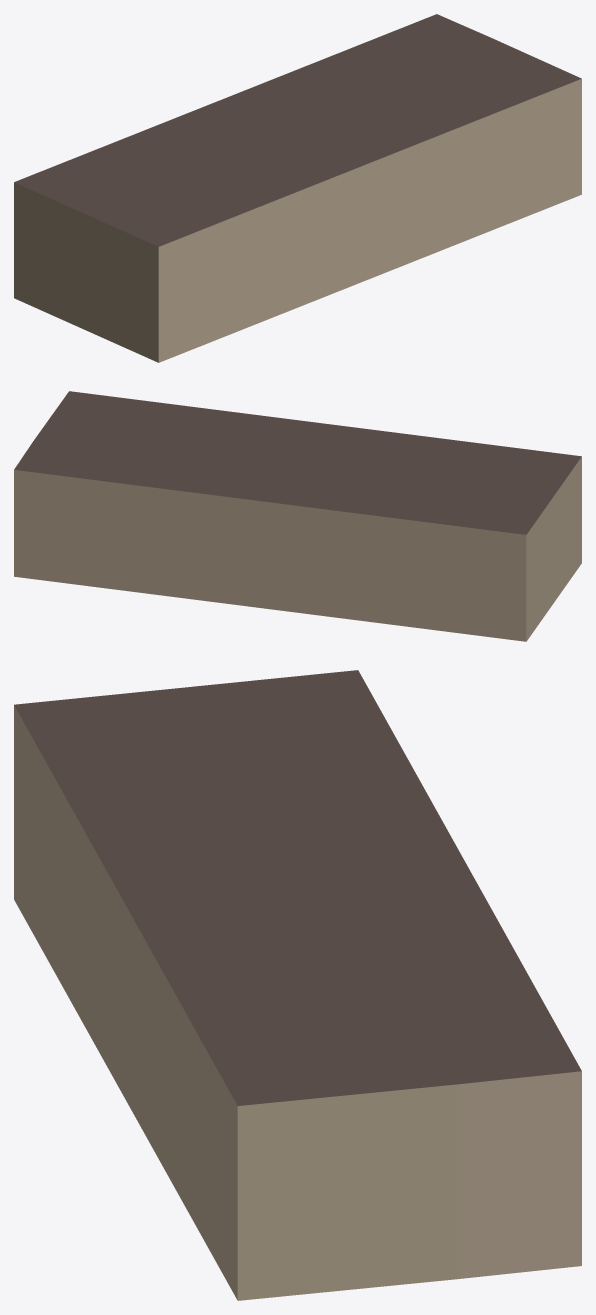
3 renders of one model, top to bottom at view 1: azimuth 30°, elevation 25°; view 2: azimuth 150°, elevation 25°; view 3: azimuth 270°, elevation 25°, orthographic. The views are drawn at different scales.
Visible parts, largest first — view 1: HP-w293416983; view 2: HP-w293416983; view 3: HP-w293416983.
Boxes of the visible parts, box(x1,y1,x2,y2) form: HP-w293416983: box(14, 14, 581, 362); HP-w293416983: box(14, 391, 581, 641); HP-w293416983: box(14, 670, 581, 1300).
Size of the model in its own units: 43.2 by 9 by 23.78.
